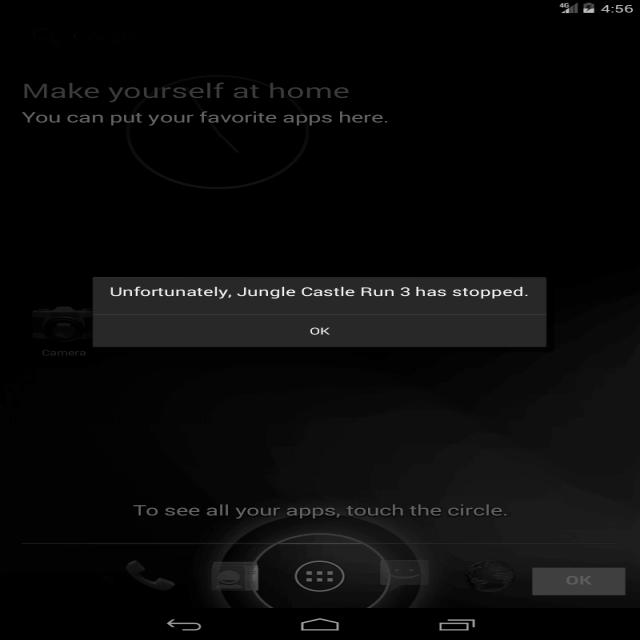Button: (520, 564, 629, 600)
TextView: (18, 76, 404, 132), (103, 280, 535, 302), (122, 498, 516, 522), (297, 320, 337, 336)
